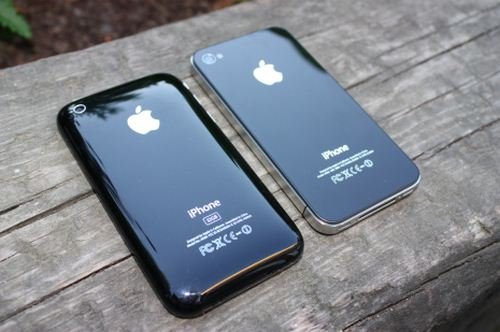apple: (124, 102, 166, 142), (246, 59, 286, 89)
